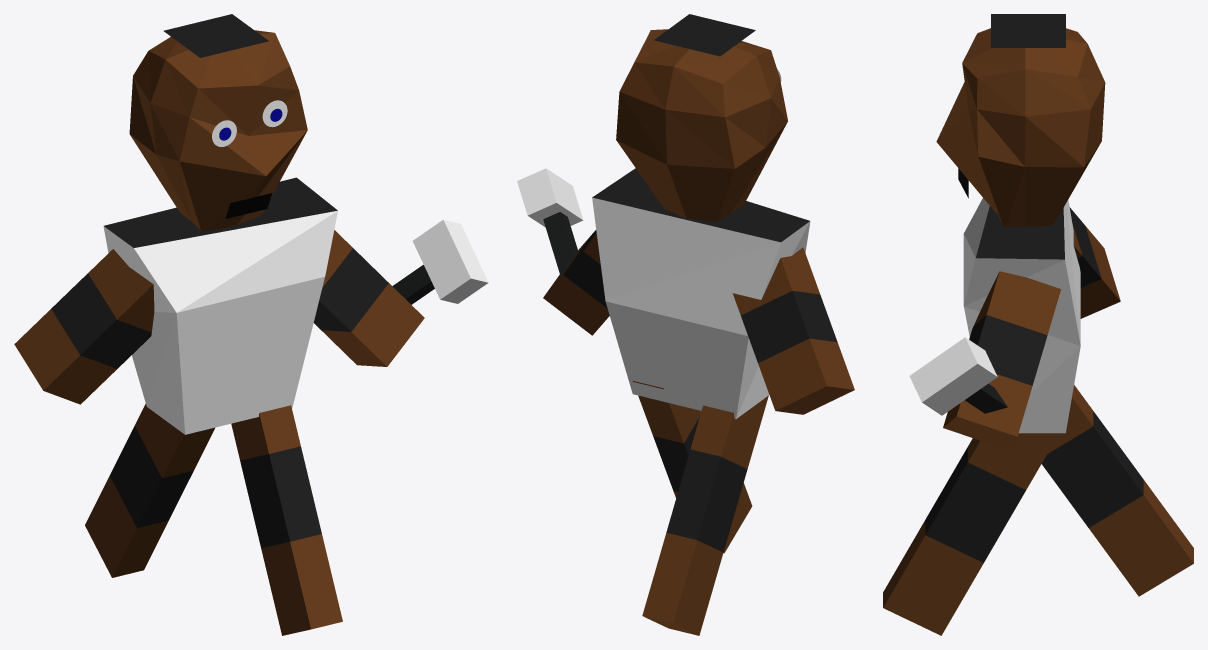
The model's file is slave3.obj.
3 views of the same model, side by side, from view 1: azimuth 30°, elevation 25°; view 2: azimuth 150°, elevation 25°; view 3: azimuth 270°, elevation 25° (orthographic). The views are drawn at different scales.
Visible parts, largest first — view 1: Cube.001, Cube, Cube.005, Cube.003, Cube.004, Cube.002, Cube.008, Plane.002, Cube.007, Plane; view 2: Cube.001, Cube, Cube.004, Cube.003, Cube.005, Cube.002, Cube.008, Plane.002, Cube.007; view 3: Cube, Cube.005, Cube.004, Cube.001, Cube.002, Cube.008, Cube.003, Plane.002, Cube.007.
Boxes of the visible parts, box(x1,y1,x2,y2) form: Cube.001: box(103, 177, 337, 434); Cube: box(129, 30, 307, 230); Cube.005: box(231, 405, 342, 635); Cube.003: box(14, 249, 154, 404); Cube.004: box(85, 404, 214, 577); Cube.002: box(313, 230, 424, 366); Cube.008: box(412, 219, 488, 303); Plane.002: box(163, 14, 268, 57); Cube.007: box(392, 265, 434, 304); Plane: box(225, 193, 272, 218); Cube.001: box(592, 168, 810, 419); Cube: box(616, 29, 787, 221); Cube.004: box(642, 395, 768, 635); Cube.003: box(732, 247, 854, 414); Cube.005: box(633, 380, 752, 553); Cube.002: box(543, 230, 609, 335); Cube.008: box(517, 168, 583, 227); Plane.002: box(654, 14, 755, 56); Cube.007: box(543, 212, 577, 275); Cube: box(936, 28, 1105, 227); Cube.005: box(883, 433, 1058, 635); Cube.004: box(1041, 385, 1193, 596); Cube.001: box(963, 198, 1080, 433); Cube.002: box(943, 271, 1061, 448); Cube.008: box(909, 337, 997, 415); Cube.003: box(1069, 207, 1120, 318); Plane.002: box(991, 14, 1065, 47); Cube.007: box(965, 383, 1007, 413).
Bounding box in the file's own units: 4.16 × 5.94 × 2.9.
